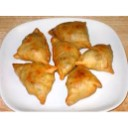samosa: (13, 60, 59, 105), (67, 65, 103, 109), (14, 27, 53, 64), (51, 37, 82, 77), (50, 21, 95, 48), (79, 44, 118, 73)
